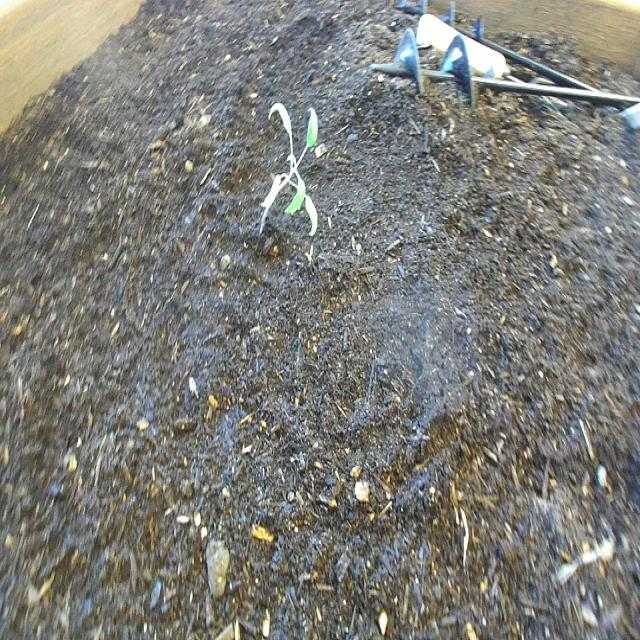Unhealthy: (256, 96, 324, 249)
